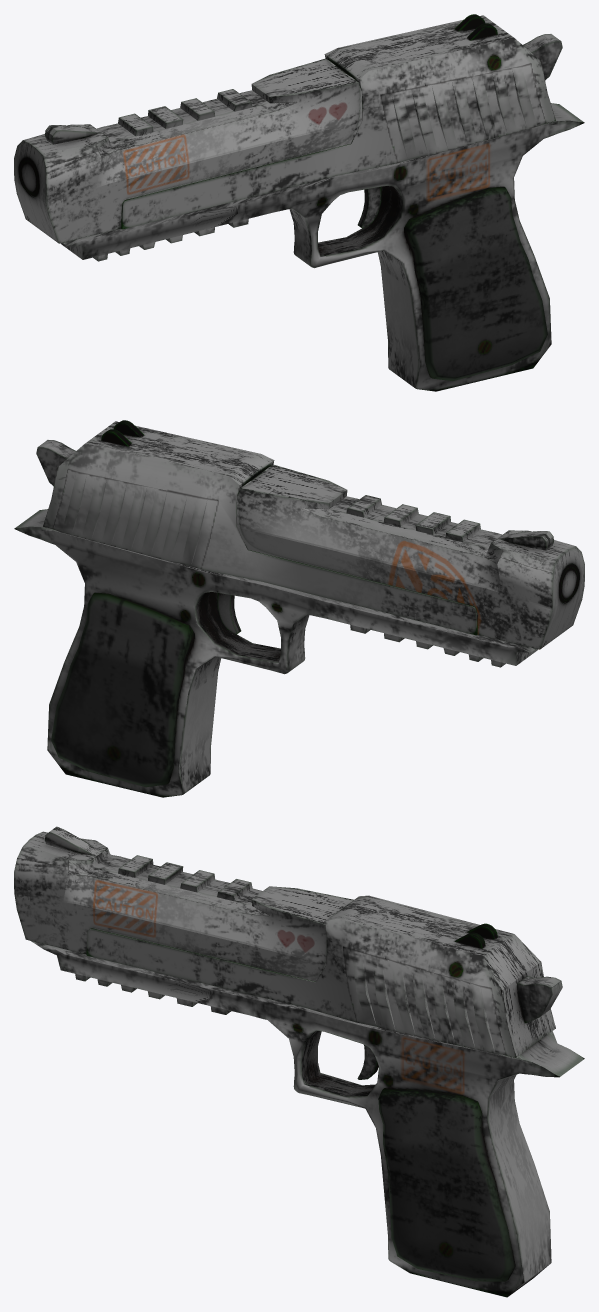
File: Deagle.fbx
3 renders of one model, top to bottom at view 1: azimuth 30°, elevation 25°; view 2: azimuth 150°, elevation 25°; view 3: azimuth 330°, elevation 25°, orthographic.
Visible parts, largest first — view 1: Deagle; view 2: Deagle; view 3: Deagle.
Part boxes in pixels (x1,y1,x2,y2): Deagle: [14, 14, 584, 391]; Deagle: [14, 420, 584, 797]; Deagle: [14, 826, 584, 1297].
Size of the model in its own units: 10.24 by 1.47 by 6.28.
1 material, 1 textured.
